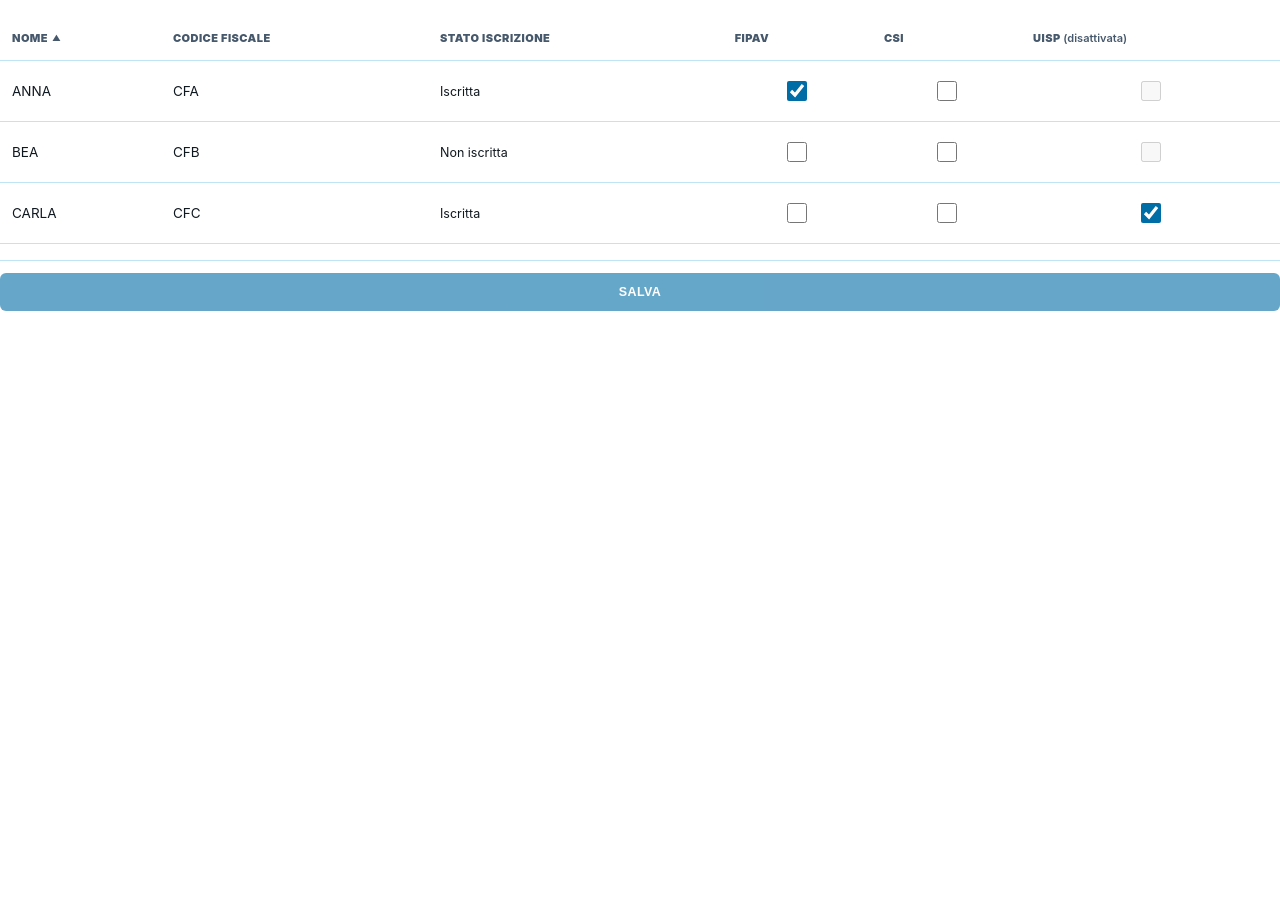
Test: ConfermaTesseramentiForm › cambiare una casella chiude una conferma ormai superata
Click the checkbox named "ANNA: FIPAV".
click(797, 91)  # box [787,81,807,101]
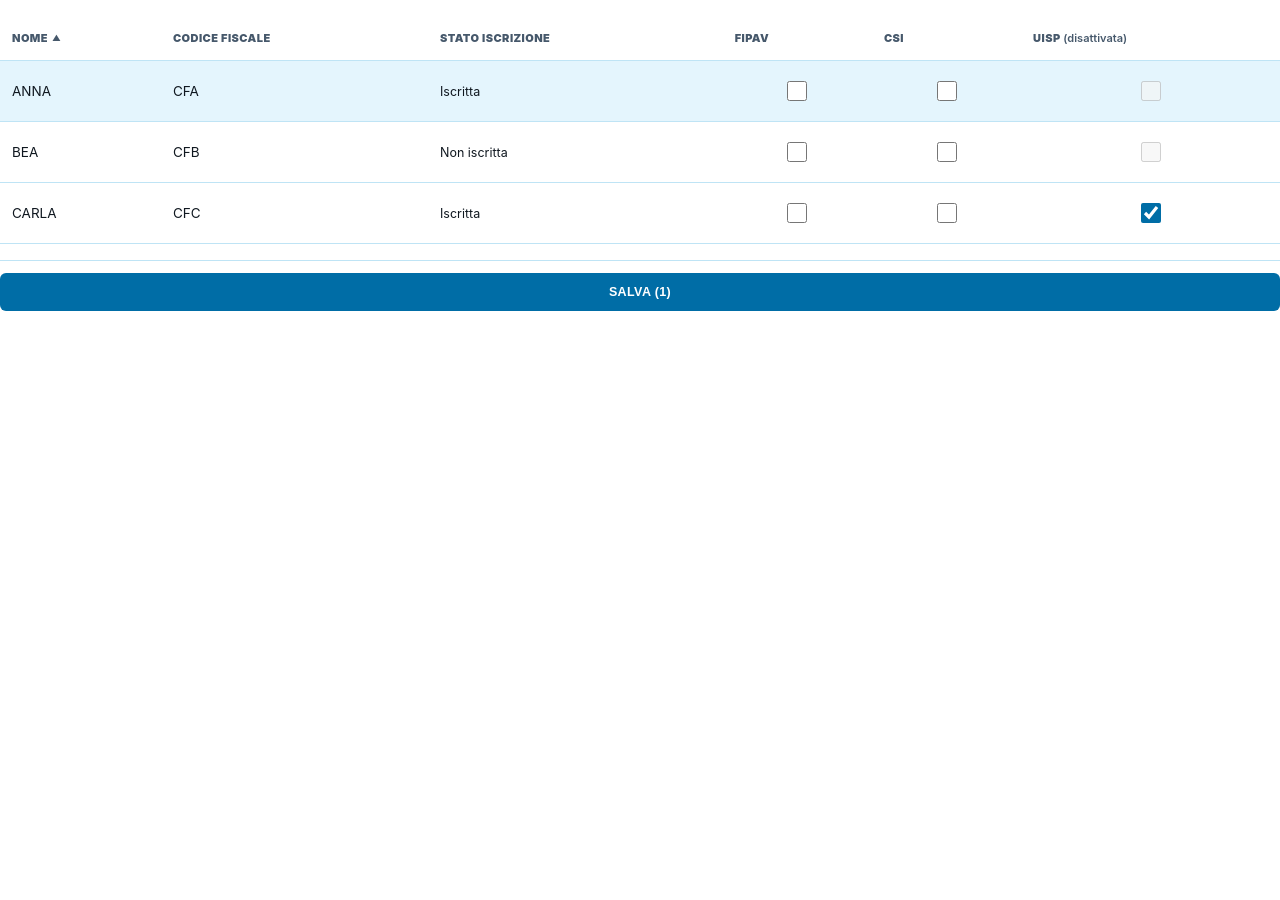
Click the button "Salva (1)".
click(640, 292)  # box [0,273,1279,311]
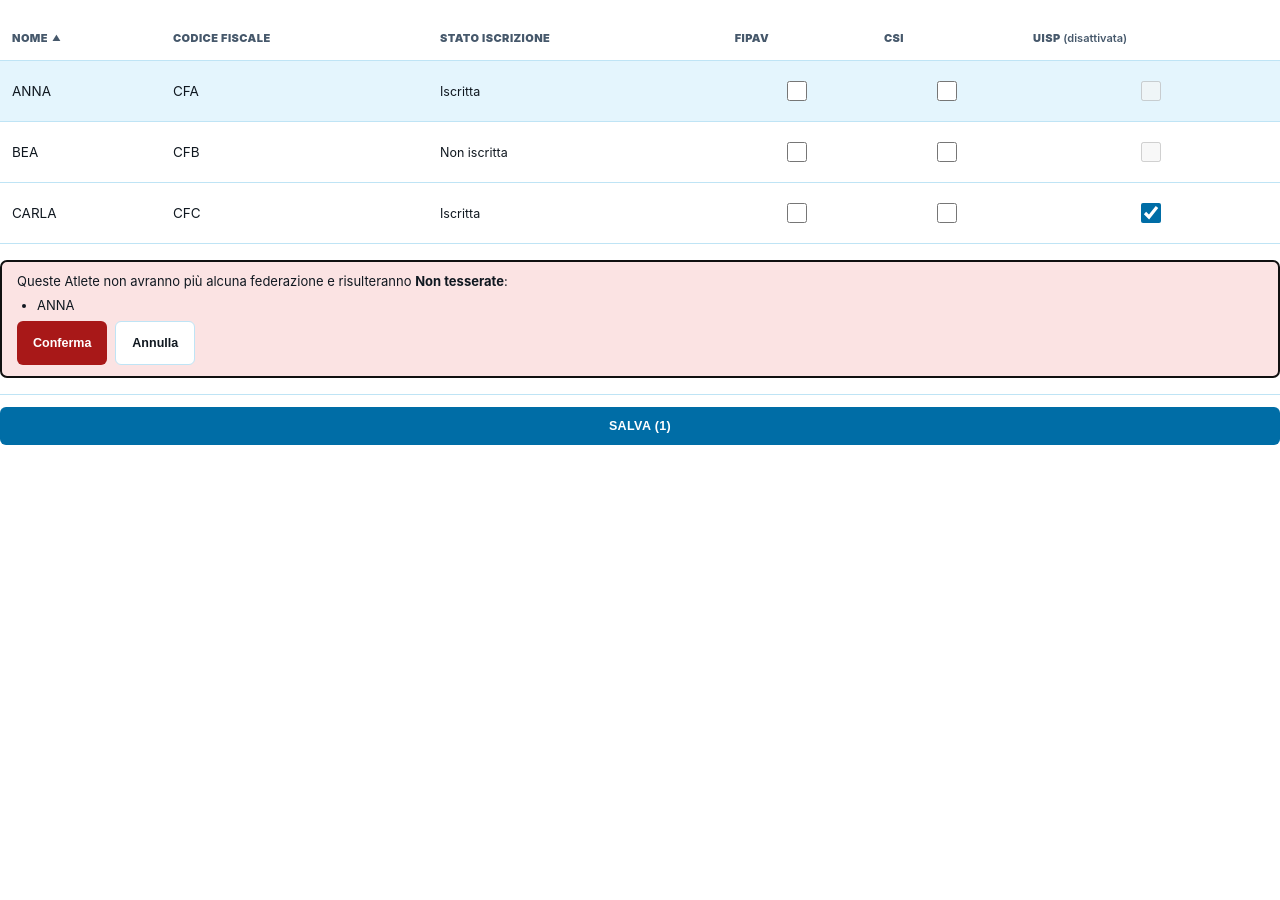
Click the checkbox named "ANNA: Centro Sportivo Italiano".
click(946, 91)  # box [936,81,956,101]
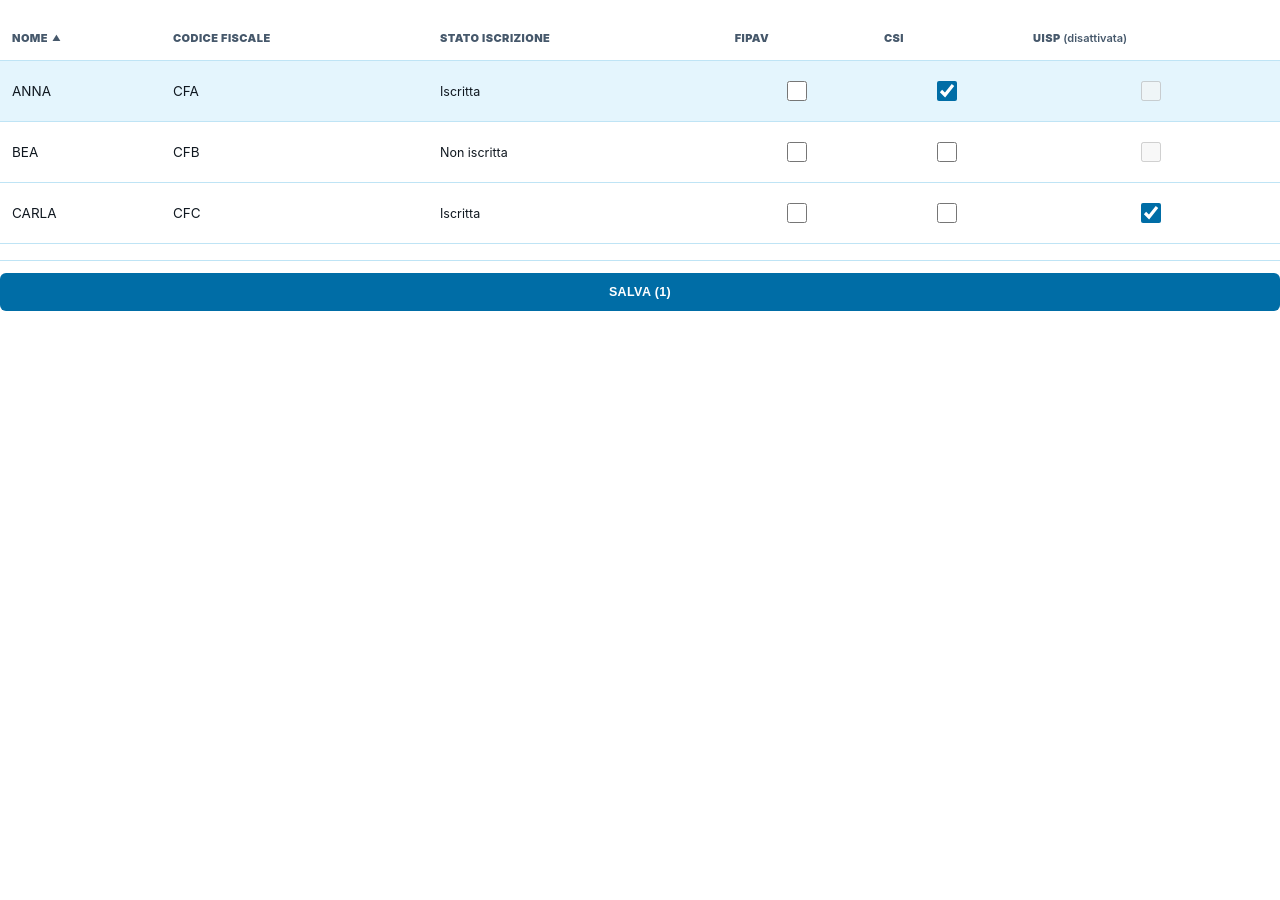
Expected: the dialog is gone
